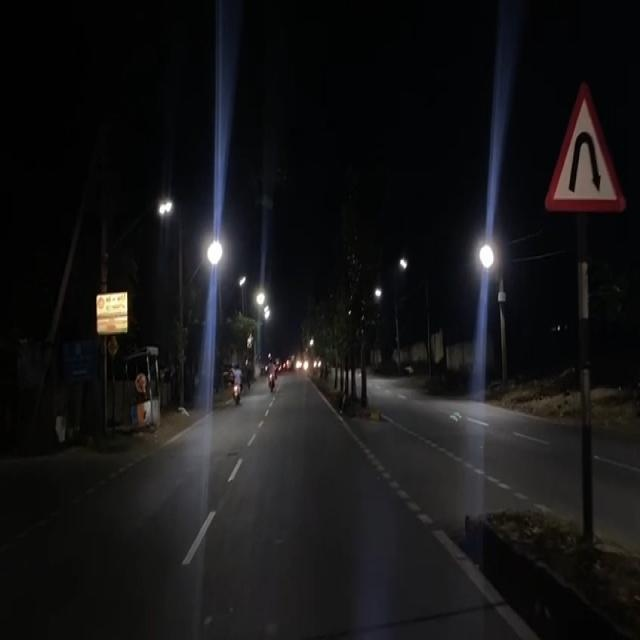bien_nguy_hiem: (544, 80, 628, 221)
